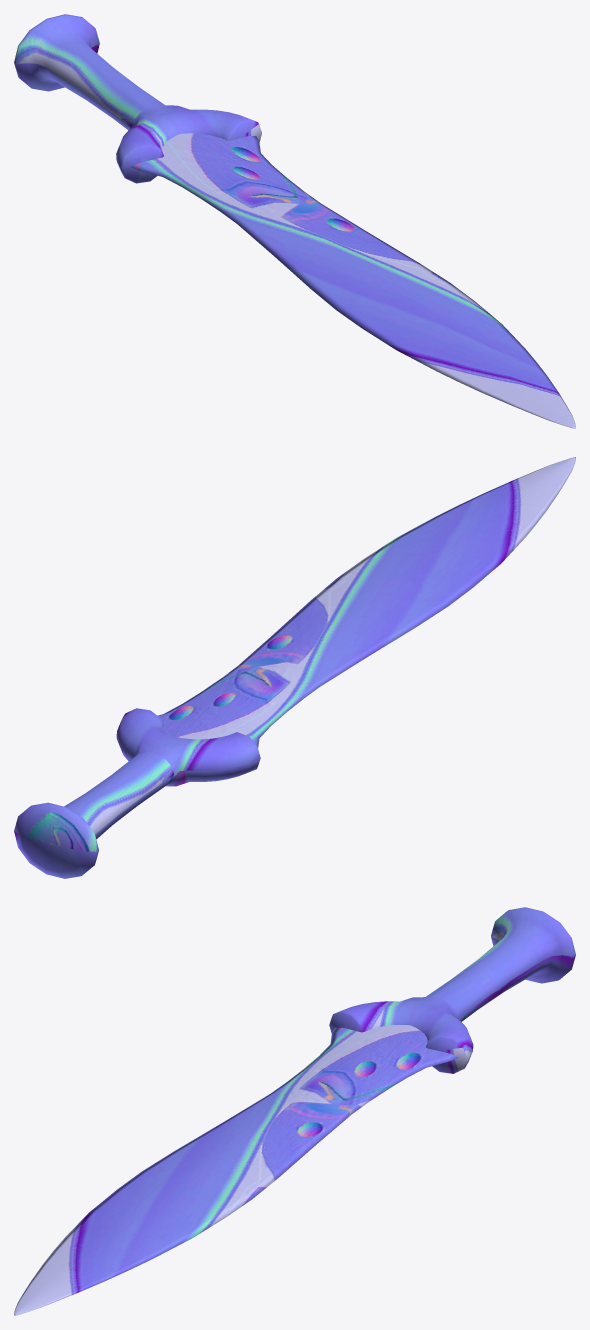
Rendered from Sword.glb.
The picture shows the model from 3 angles, top to bottom: view 1: azimuth 30°, elevation 25°; view 2: azimuth 150°, elevation 25°; view 3: azimuth 330°, elevation 25°; orthographic projection.
Visible parts, largest first — view 1: Sword; view 2: Sword; view 3: Sword.
Part boxes in pixels (x1,y1,x2,y2): Sword: [14, 14, 575, 428]; Sword: [14, 457, 575, 878]; Sword: [14, 907, 575, 1315].
Bounding box in the file's own units: 1.5 × 0.7234 × 9.68.
Materials: 1 (1 with a texture image).
